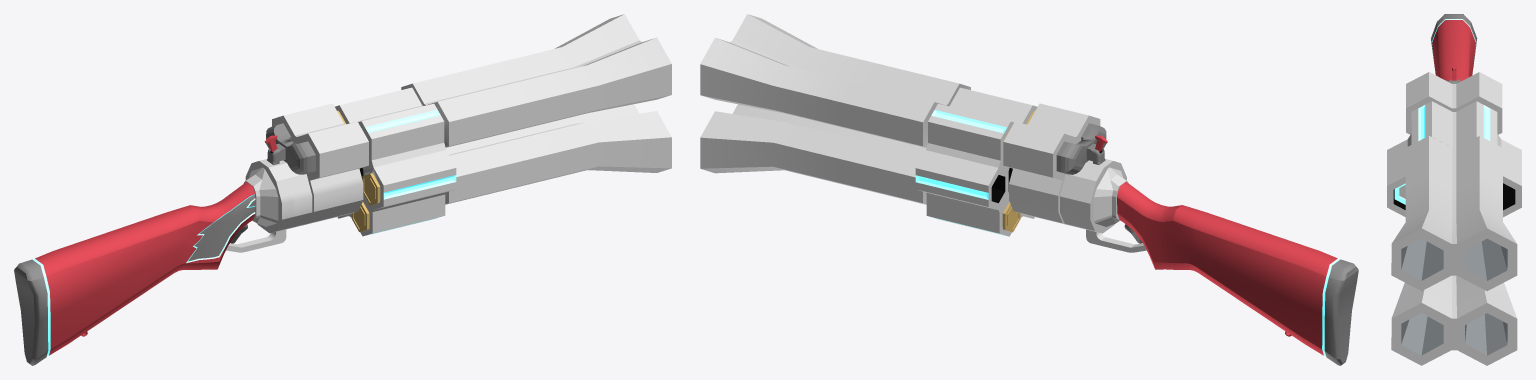
Rendered from shotgun v3.fbx.
3 views of the same model, side by side, from view 1: azimuth 30°, elevation 25°; view 2: azimuth 150°, elevation 25°; view 3: azimuth 270°, elevation 25° (orthographic).
Parts seen in each view (by area): view 1: Remington870.001; view 2: Remington870.001; view 3: Remington870.001.
Boxes of the visible parts, bbox=[...] form: Remington870.001: bbox=[14, 14, 671, 365]; Remington870.001: bbox=[700, 14, 1358, 365]; Remington870.001: bbox=[1387, 14, 1521, 365].
Size of the model in its own units: 466 by 136 by 86.35.
